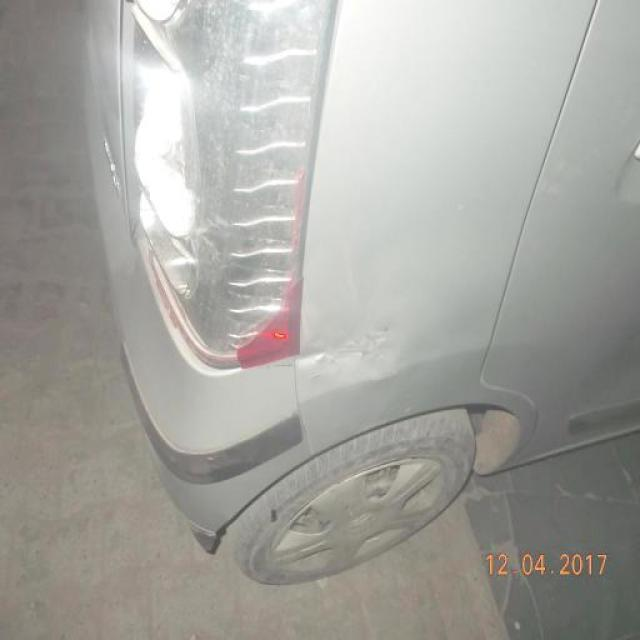car damage: (124, 2, 341, 362), (297, 316, 405, 378)
